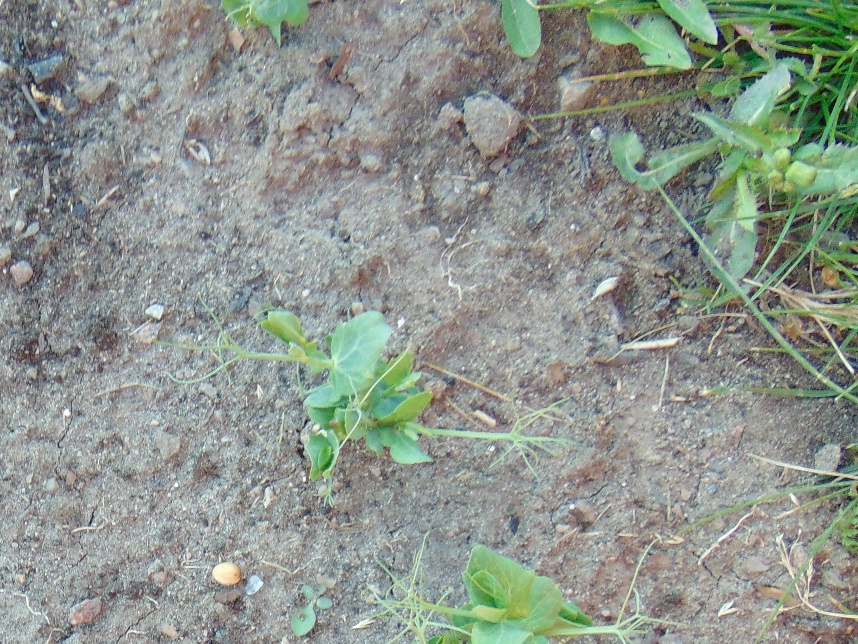crop: (210, 303, 431, 503), (372, 533, 662, 644), (327, 397, 539, 472), (222, 1, 255, 28)
weed: (609, 69, 858, 304), (577, 1, 858, 68), (767, 300, 858, 401), (767, 451, 858, 552), (289, 578, 332, 636), (499, 1, 542, 58), (254, 1, 311, 28)
